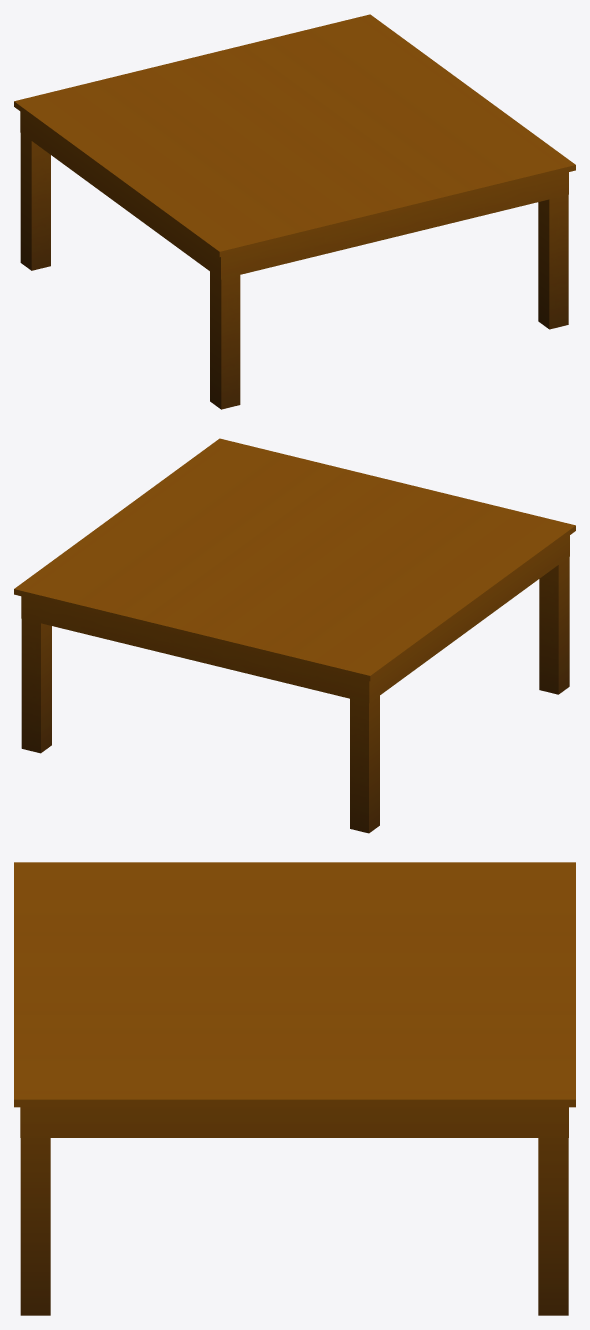
Rendered from Mesa2.fbx.
The picture shows the model from 3 angles, top to bottom: view 1: azimuth 30°, elevation 25°; view 2: azimuth 150°, elevation 25°; view 3: azimuth 270°, elevation 25°; orthographic projection. The views are drawn at different scales.
Visible parts, largest first — view 1: Mesa2.001; view 2: Mesa2.001; view 3: Mesa2.001.
Boxes of the visible parts, x1,y1,x2,y2 form: Mesa2.001: (14,14,575,409); Mesa2.001: (14,438,575,833); Mesa2.001: (14,862,575,1315).
Bounding box in the file's own units: 7.38 × 3.18 × 7.38.
1 material, 1 textured.
